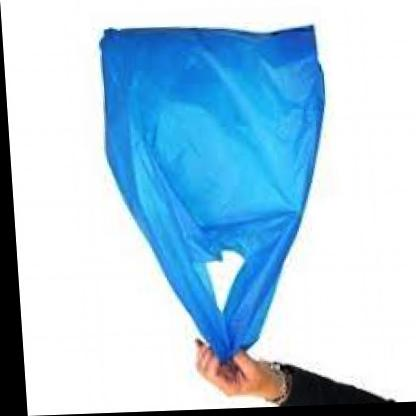Plastic: (82, 20, 352, 366)
